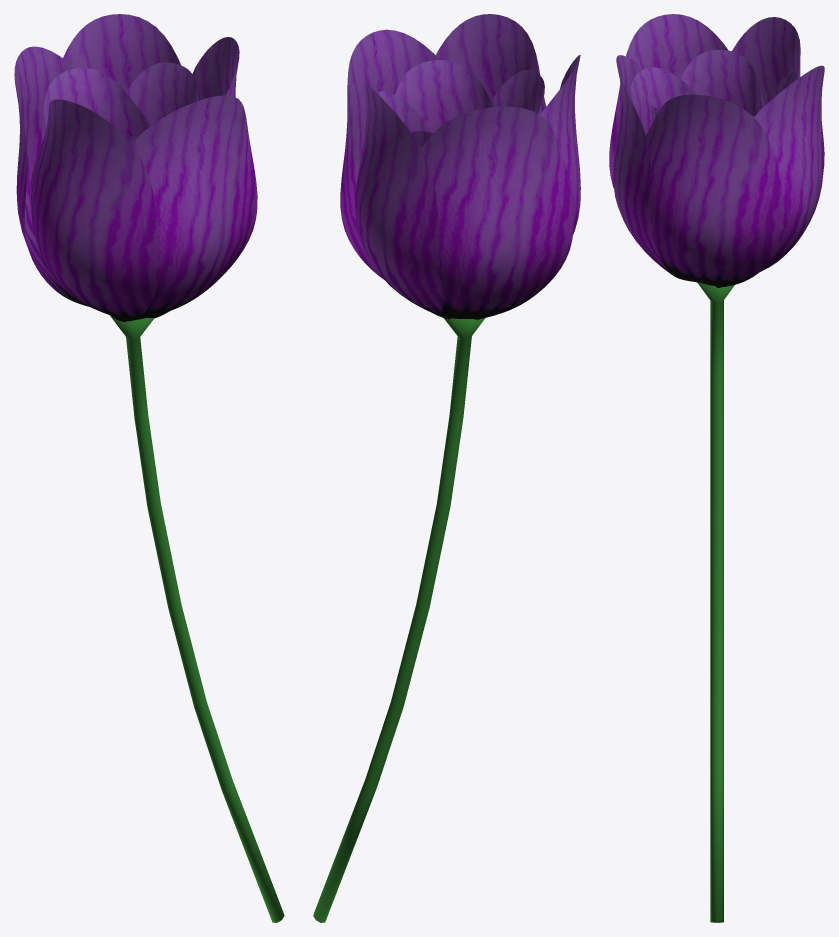
The model's file is flower.glb.
3 views of the same model, side by side, from view 1: azimuth 30°, elevation 25°; view 2: azimuth 150°, elevation 25°; view 3: azimuth 270°, elevation 25° (orthographic). The views are drawn at different scales.
Parts seen in each view (by area): view 1: Baked_Animation; view 2: Baked_Animation; view 3: Baked_Animation.
Boxes of the visible parts, left/top/right/bottom form: Baked_Animation: left=14, top=14, right=284, bottom=922; Baked_Animation: left=313, top=14, right=580, bottom=922; Baked_Animation: left=609, top=14, right=824, bottom=922.
Size of the model in its own units: 1.18 by 3.91 by 0.9437.
4 materials, 2 textured.
